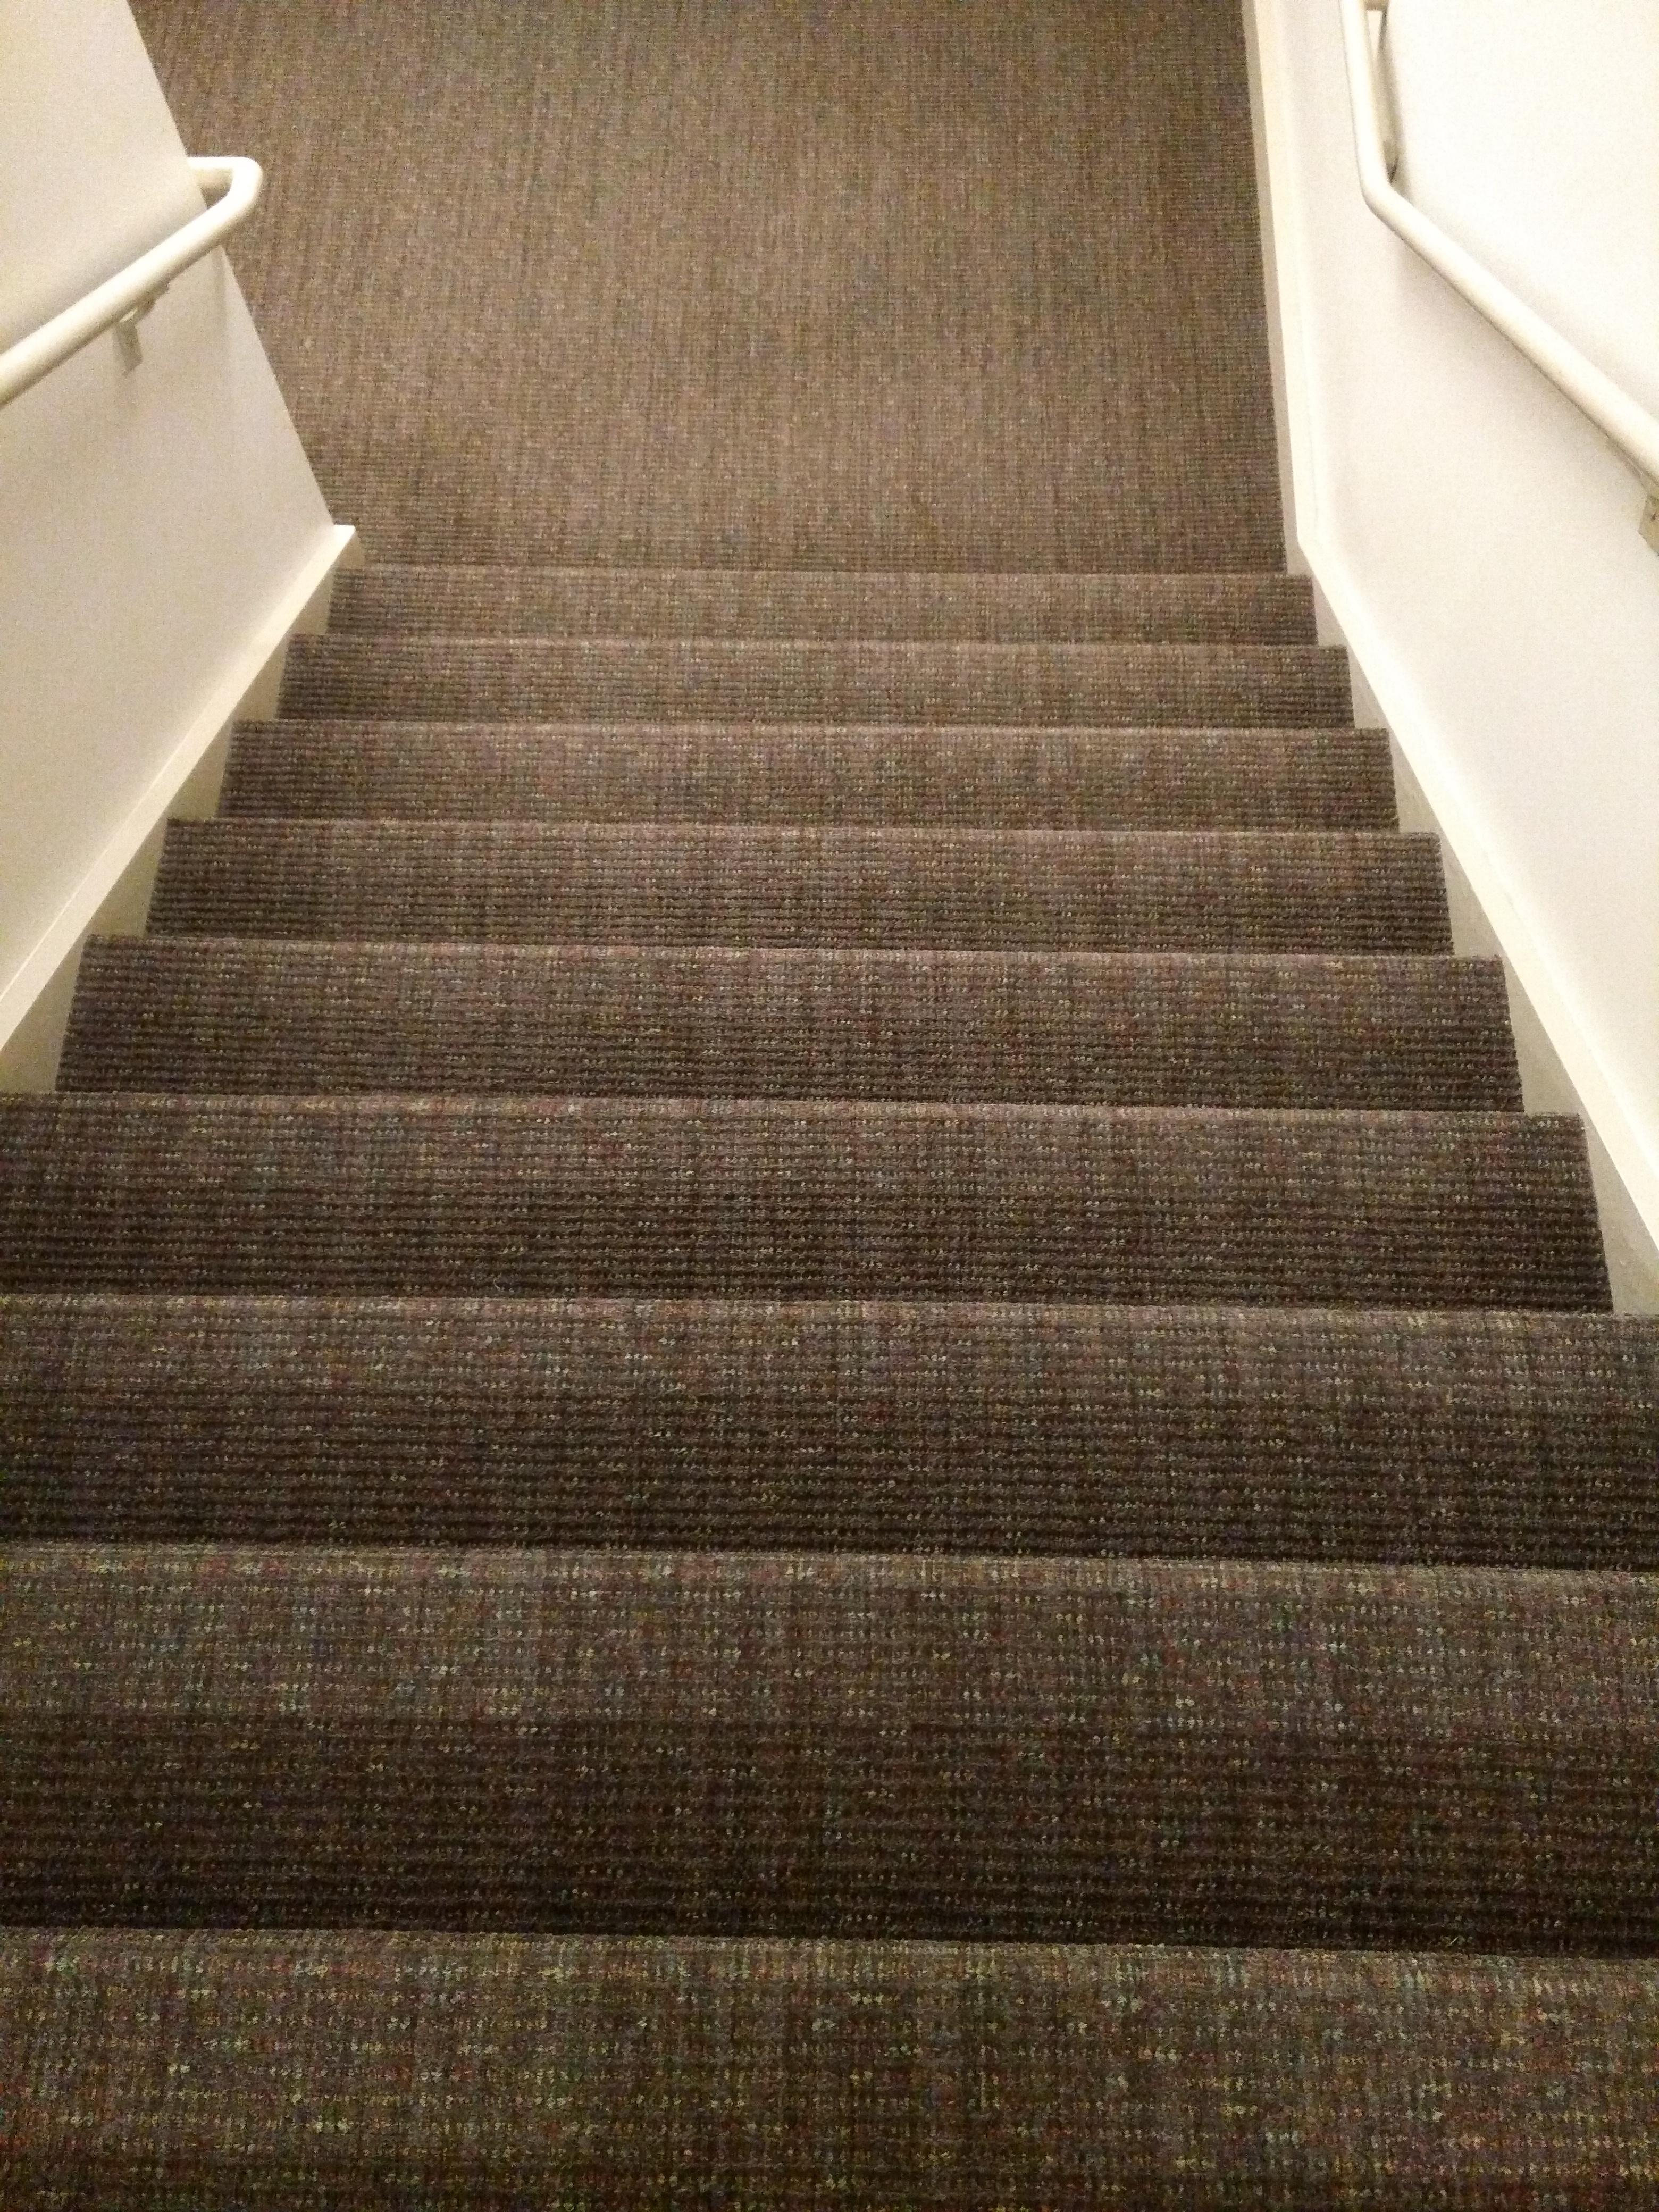stairs_down: (9, 528, 1659, 2212)
